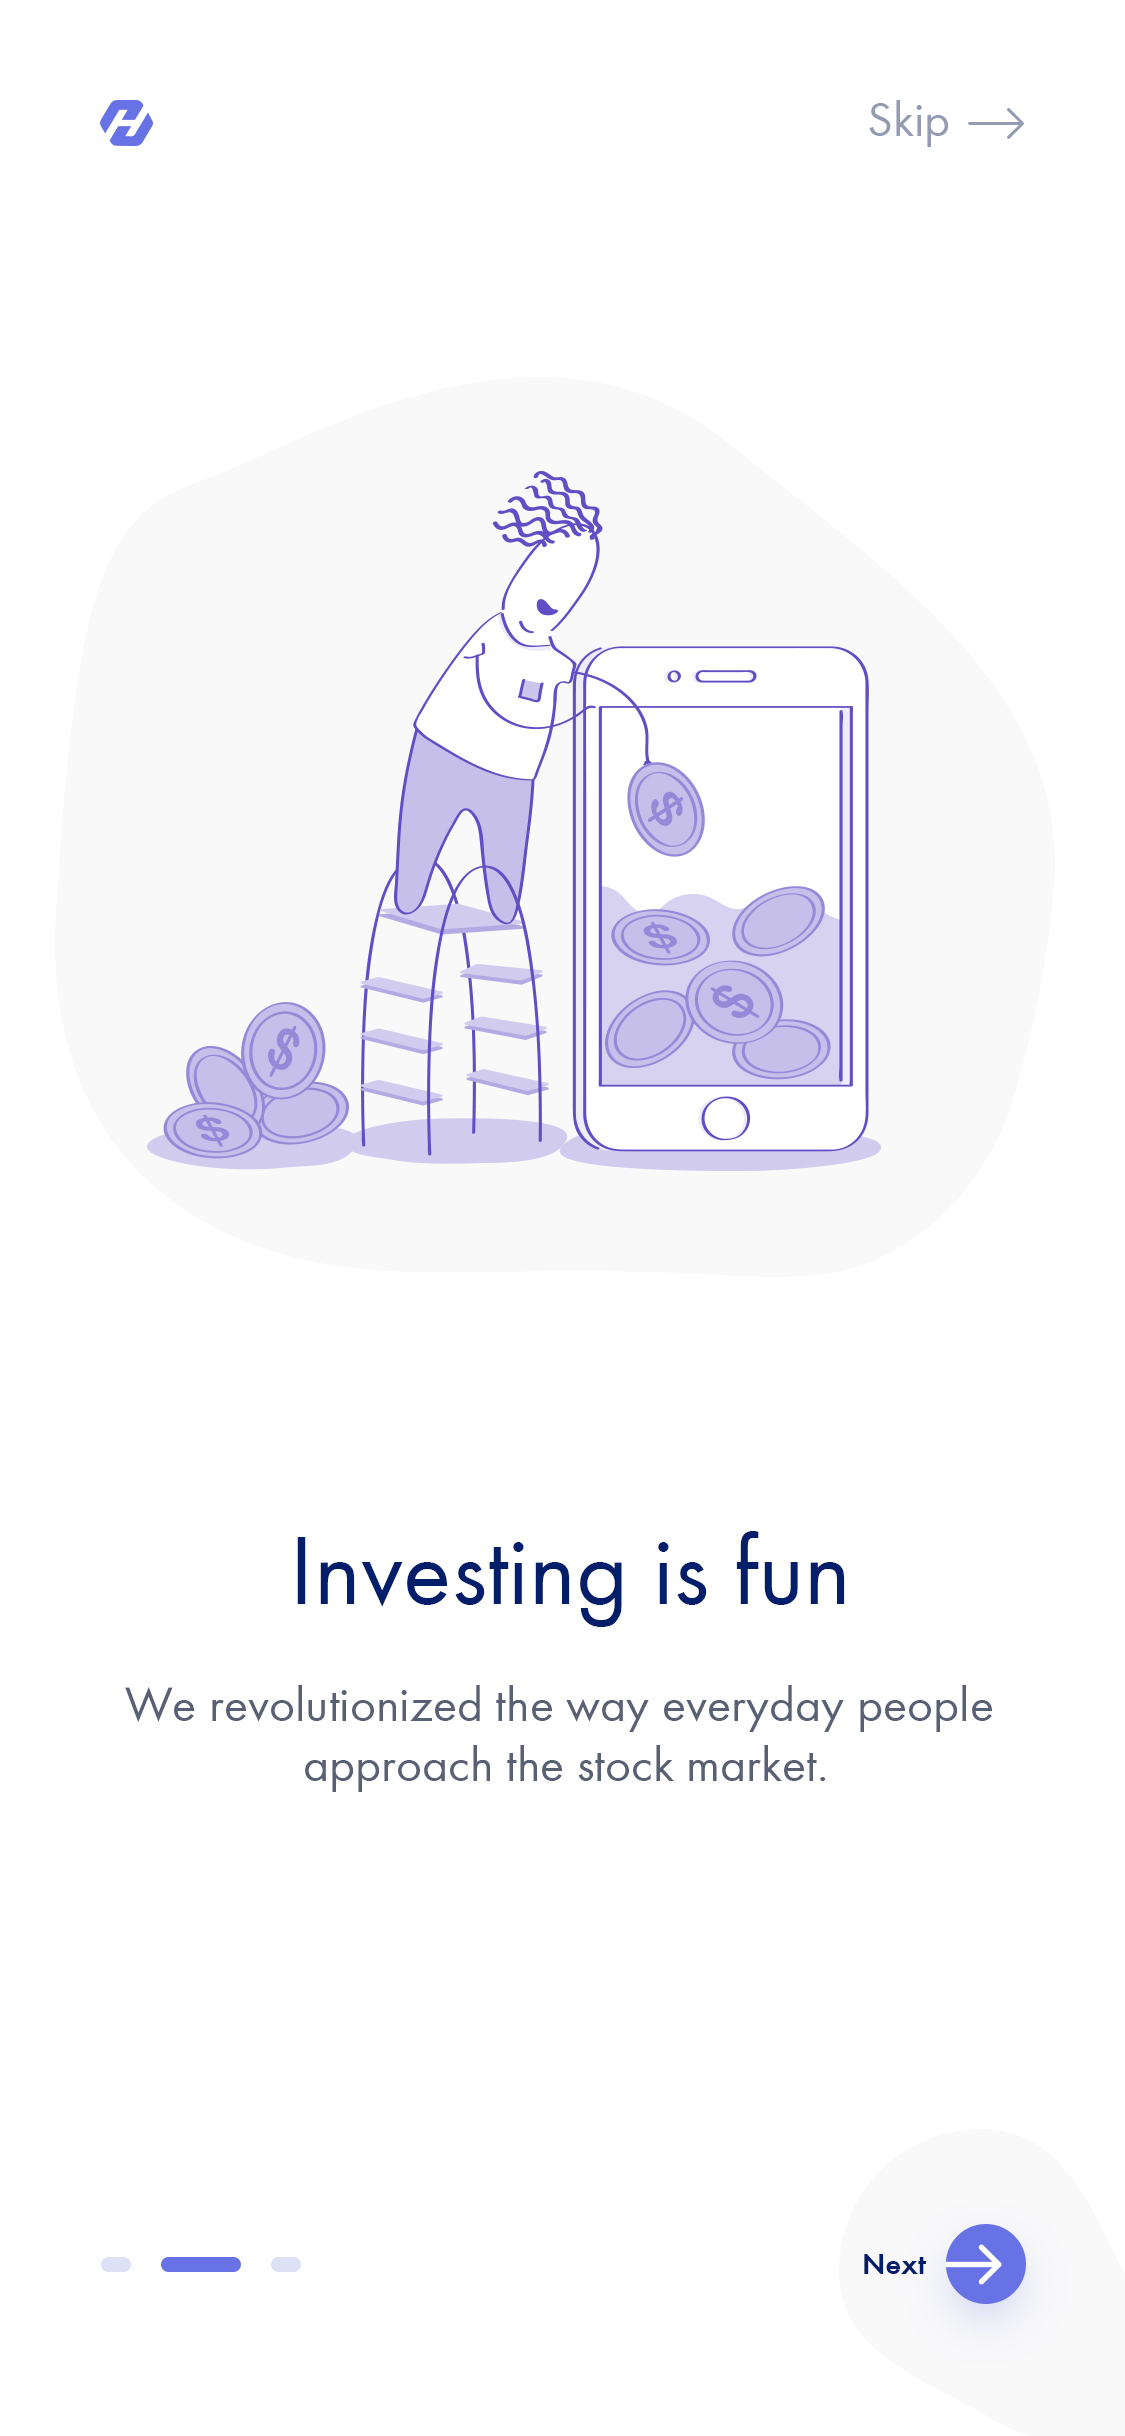Icon: (945, 2222, 1029, 2305), (967, 109, 1026, 141)
Image: (148, 471, 883, 1171)
PageIndicator: (101, 2256, 303, 2273)
Text: (124, 1683, 994, 1793), (295, 1529, 845, 1630), (869, 99, 949, 151), (862, 2253, 928, 2276)
